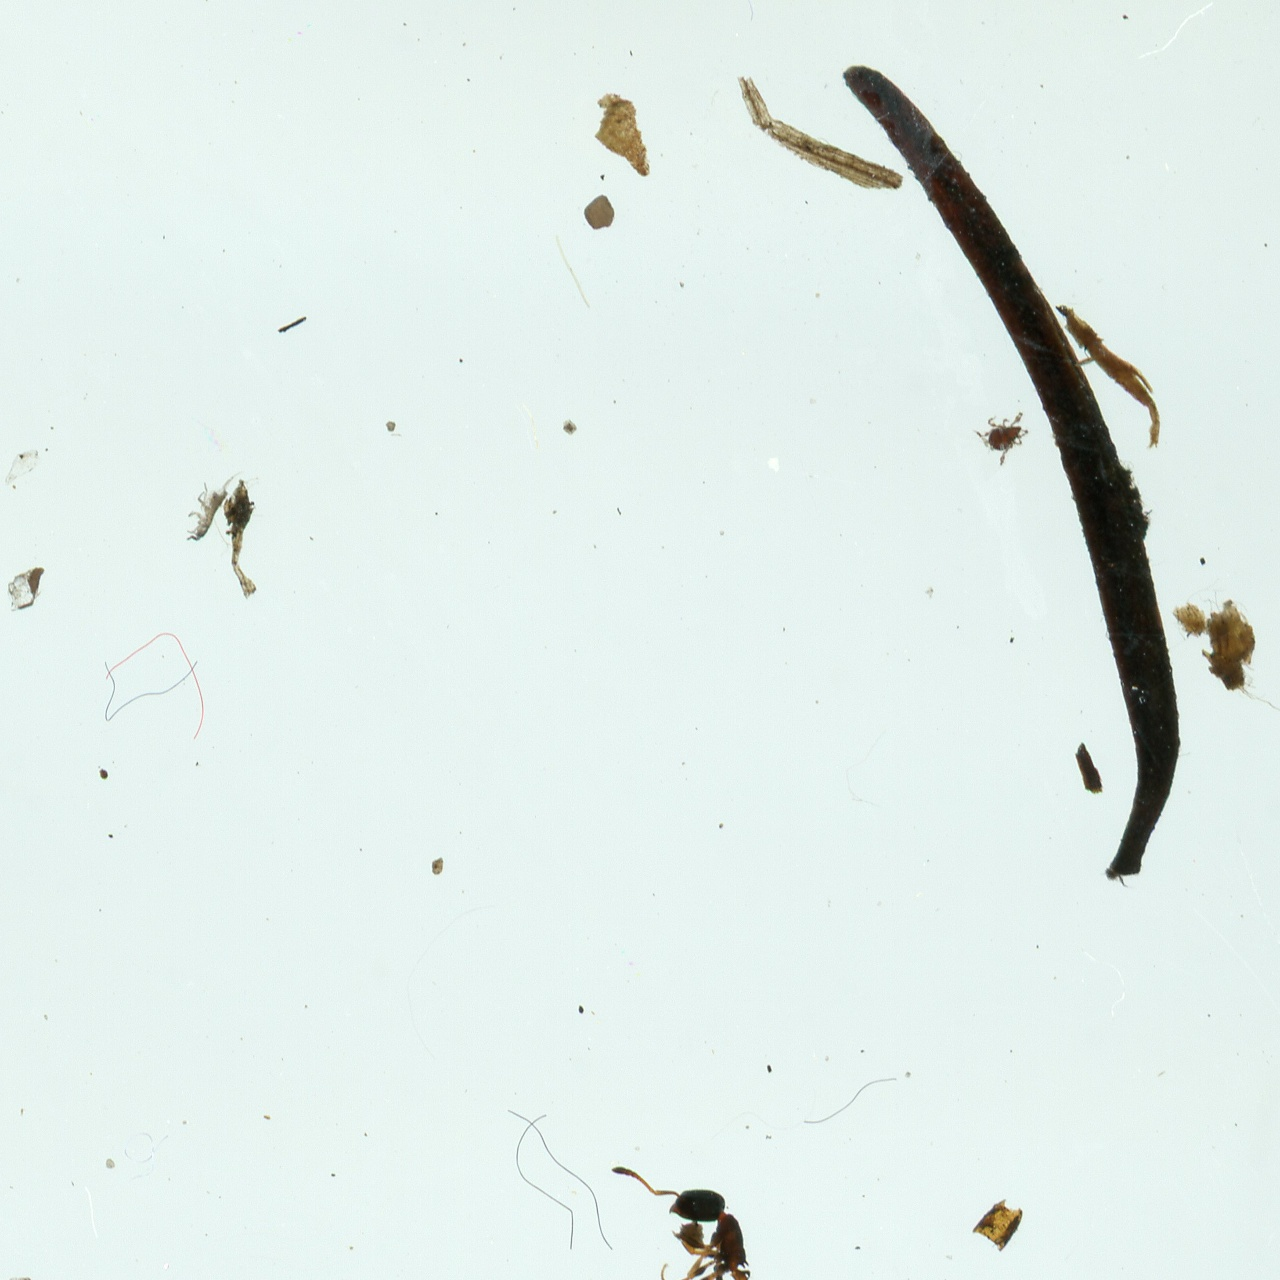arthropod: (602, 1160, 763, 1280), (171, 452, 251, 553), (967, 395, 1042, 470)
